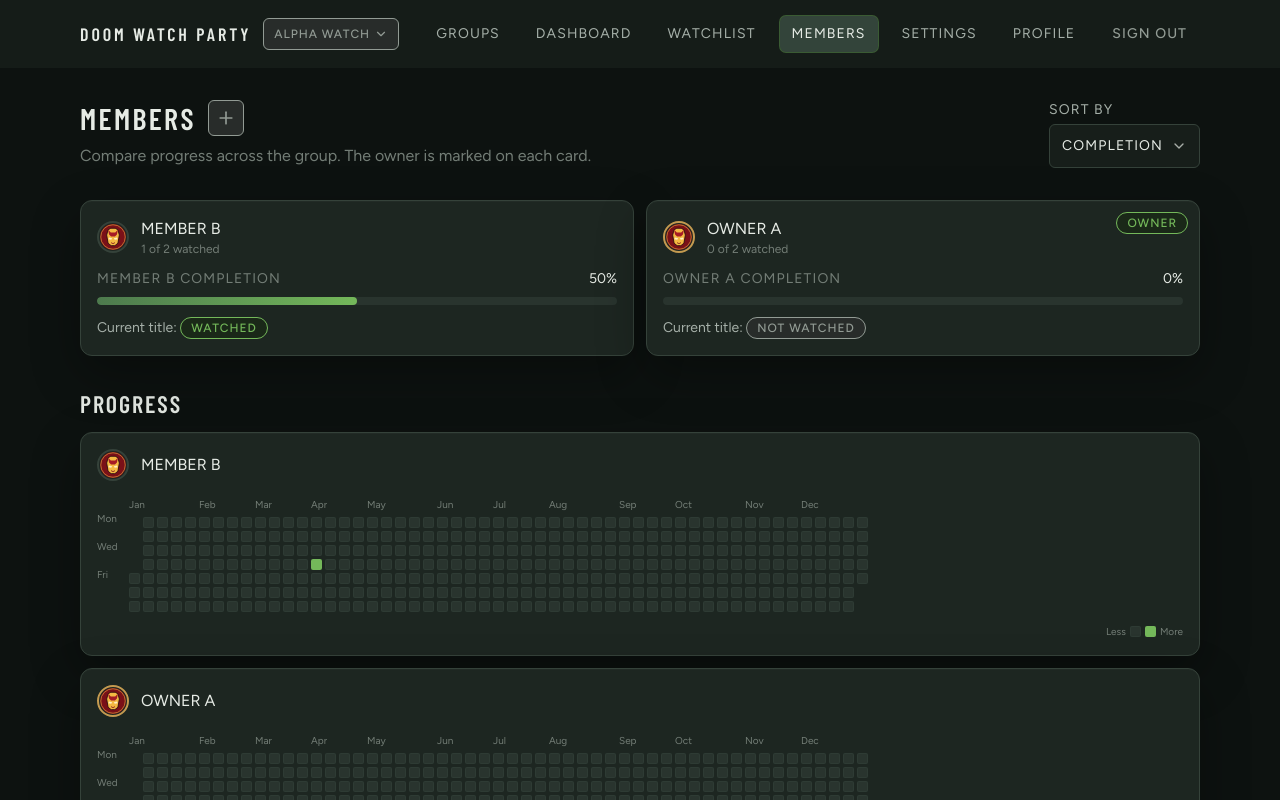
Test case: members › lists members with owner badges, sort, and a comparison grid
The image size is (1280, 800).
Expected: the heading "Members" is shown, 80,100 -> 196,136
Expected: the text "Owner" is shown, 1116,212 -> 1188,234
Click the dropdown named "Sort by". click: click(1125, 146)
box: 1049,124 -> 1200,168
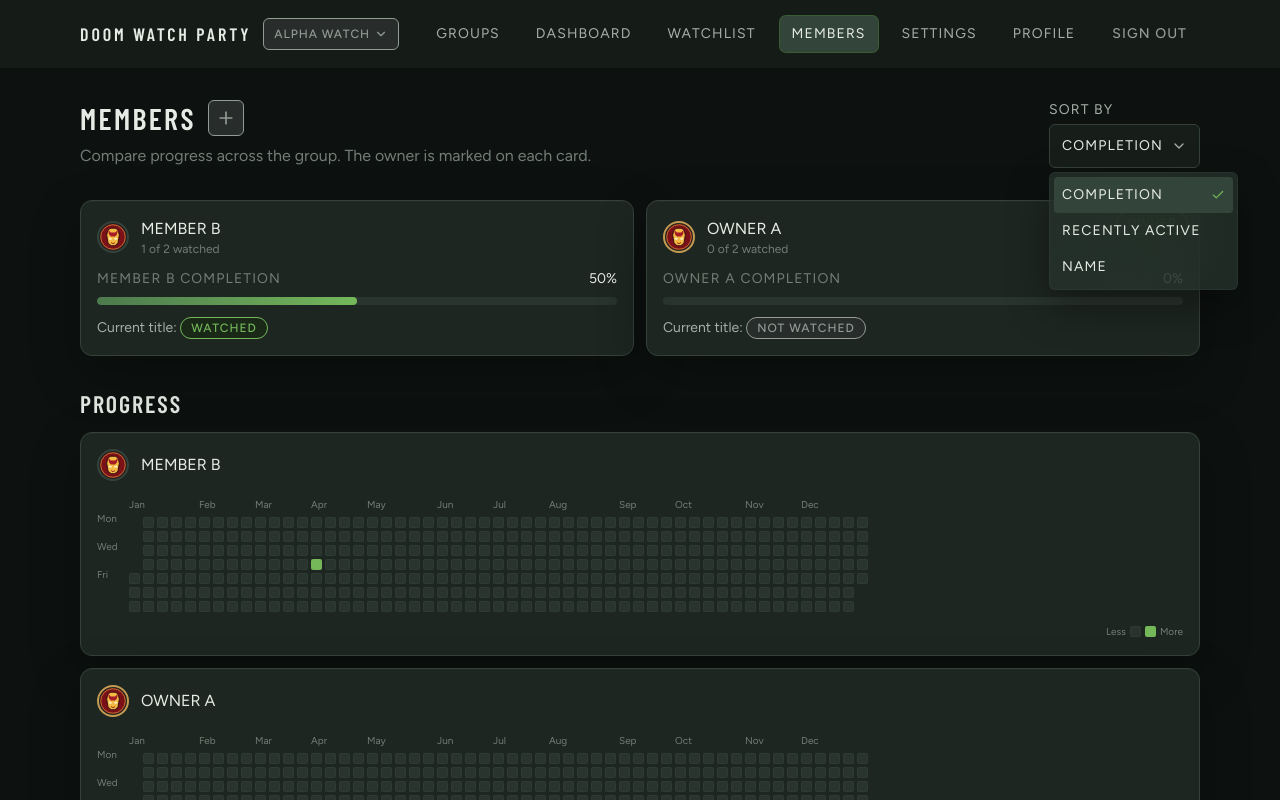
Click the option "Name". click: click(1084, 266)
box: 1062,258 -> 1107,275
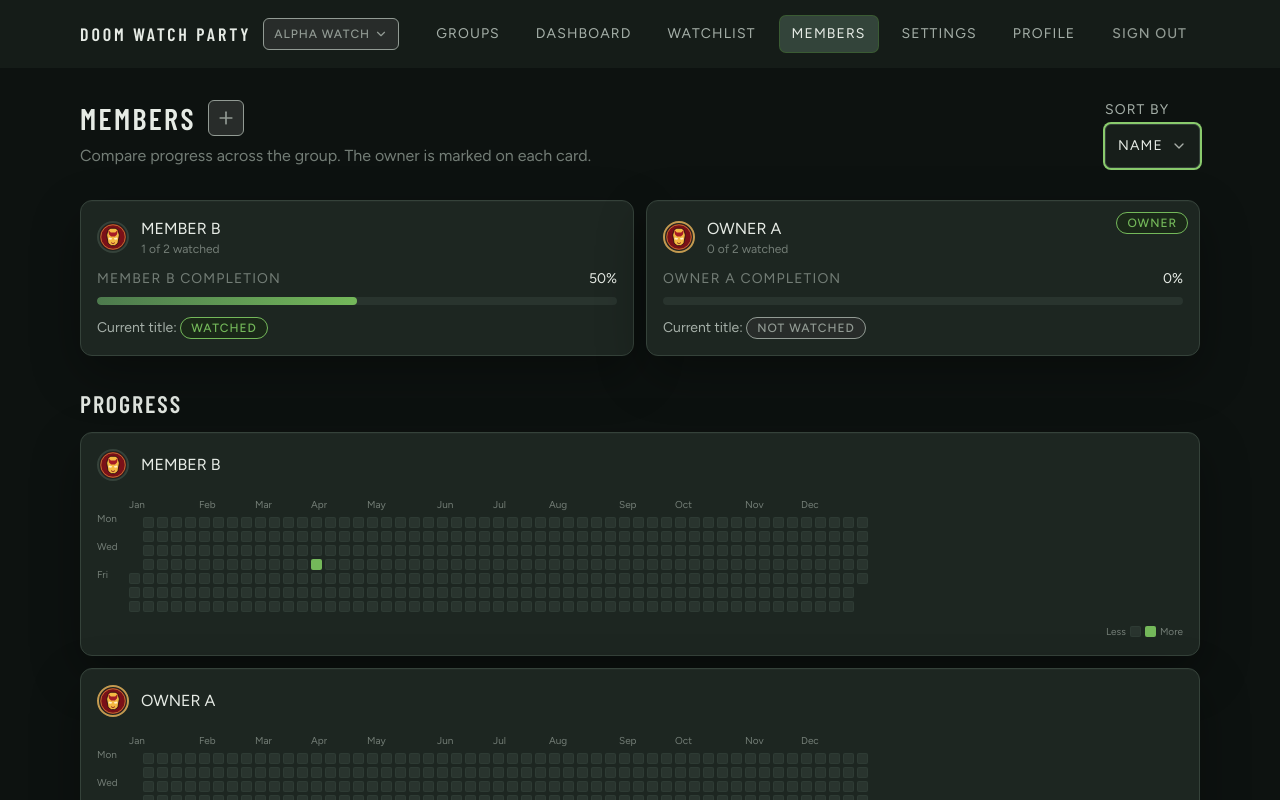
Result: the dropdown named "Sort by" reads "Name" at 1105,124 -> 1200,168
